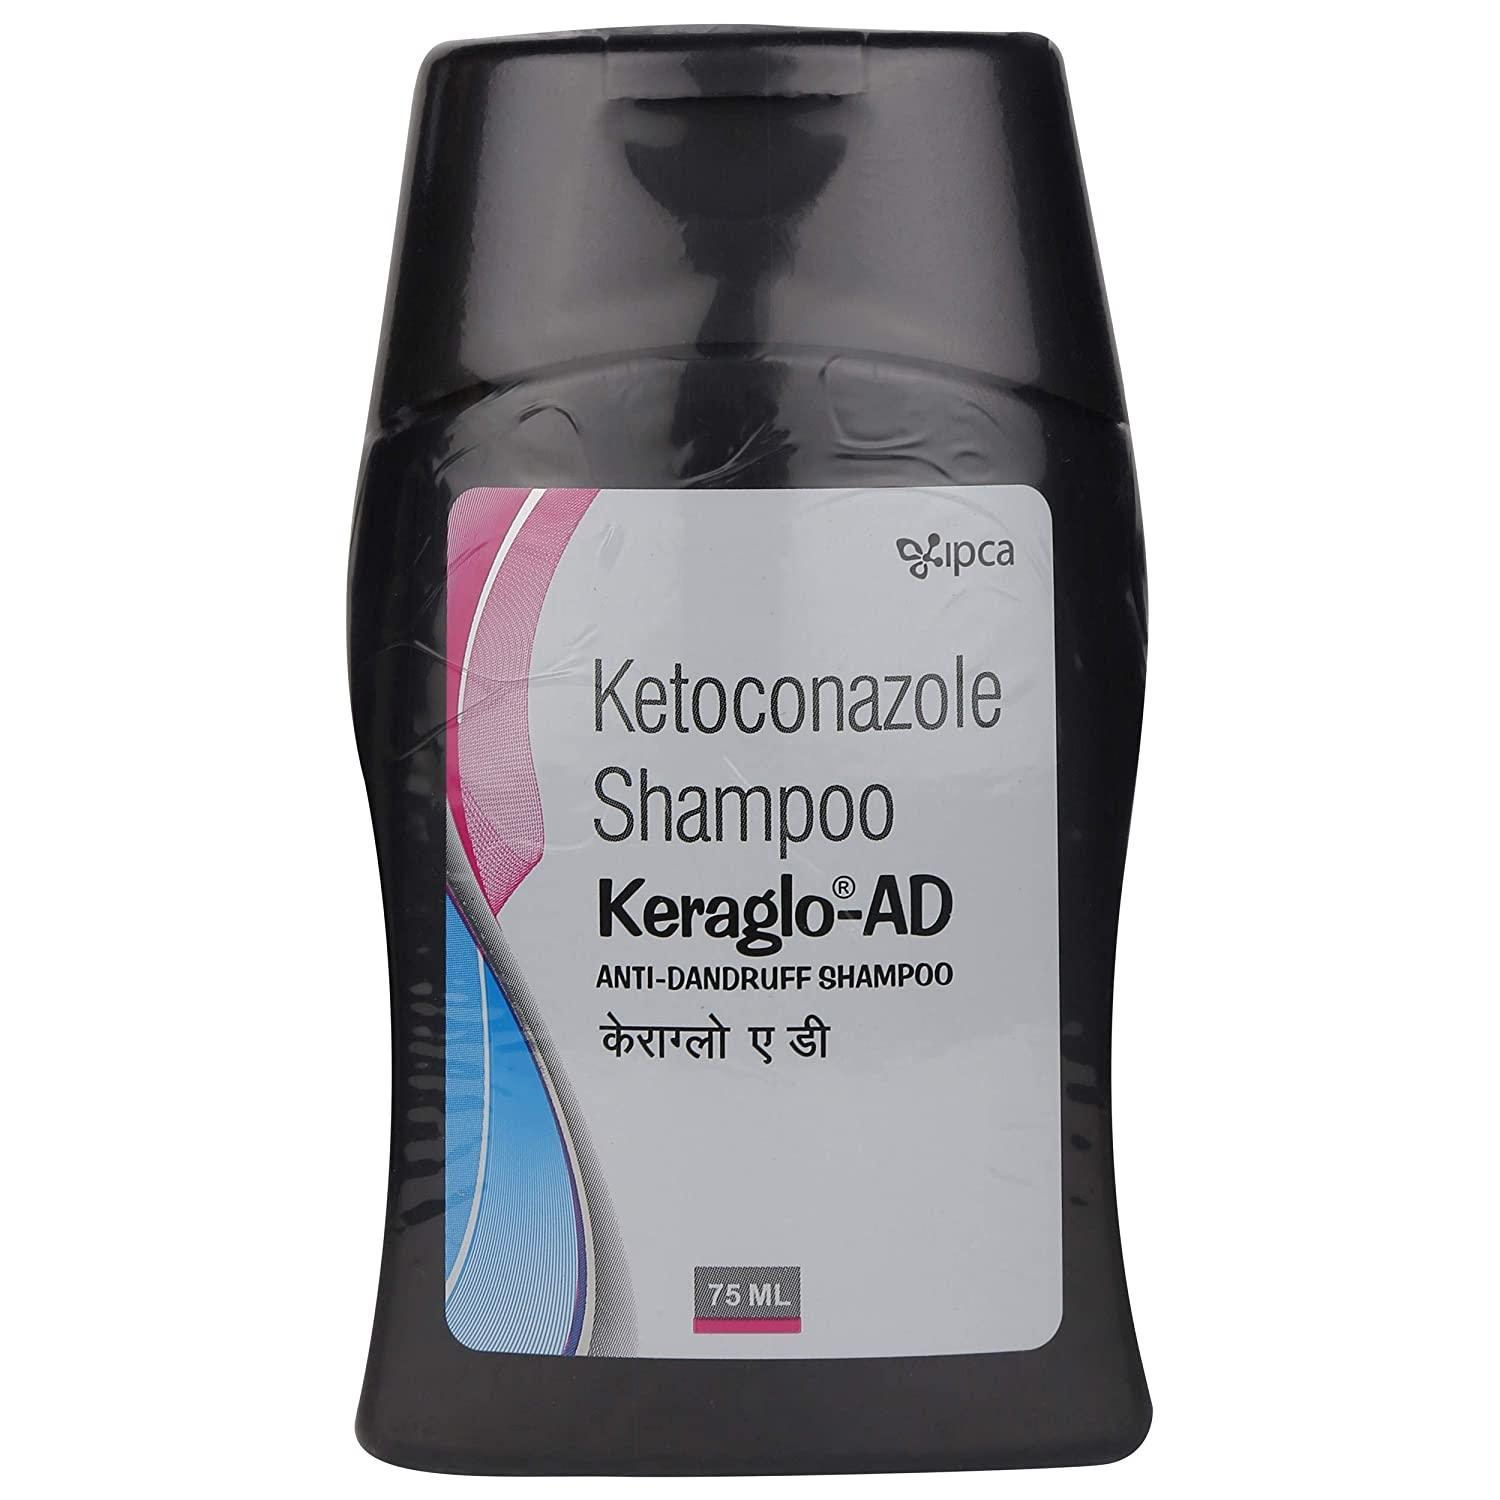KeraGlo: (339, 22, 1157, 1484)
